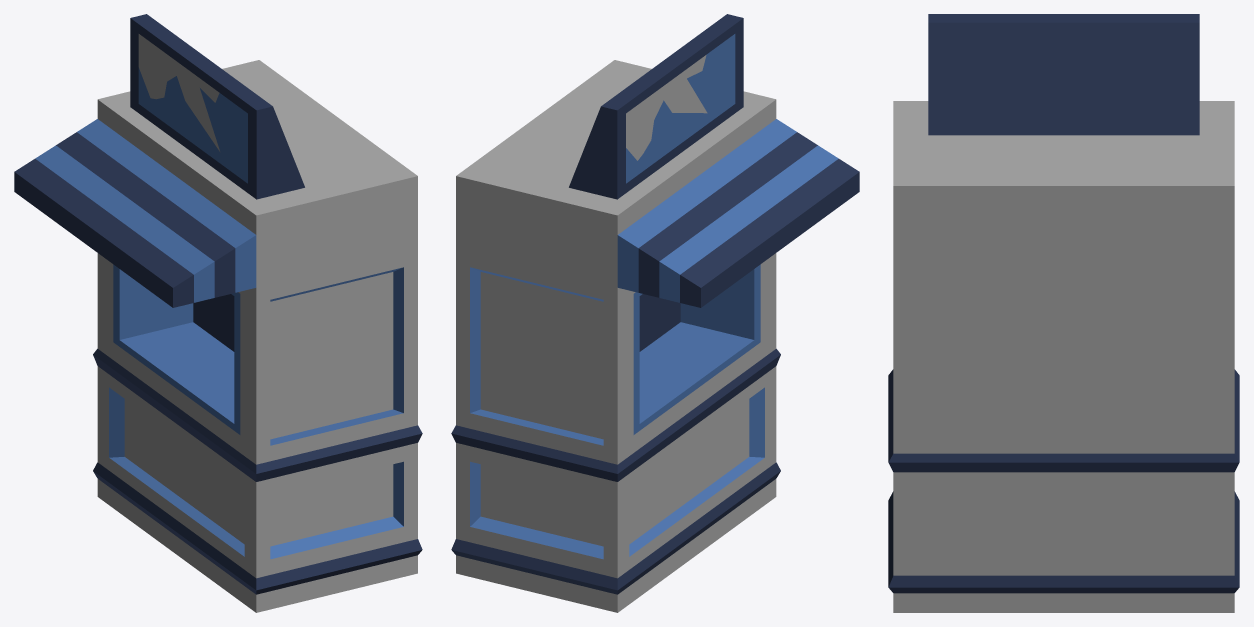
The model's file is NewstandModel04.fbx.
The picture shows the model from 3 angles, left to right: view 1: azimuth 30°, elevation 25°; view 2: azimuth 150°, elevation 25°; view 3: azimuth 270°, elevation 25°; orthographic projection. The views are drawn at different scales.
Visible parts, largest first — view 1: Newstand04; view 2: Newstand04; view 3: Newstand04.
Boxes of the visible parts, x1,y1,x2,y2 form: Newstand04: [14, 14, 422, 612]; Newstand04: [451, 14, 859, 612]; Newstand04: [888, 14, 1239, 612].
Size of the model in its own units: 207 by 389 by 237.
